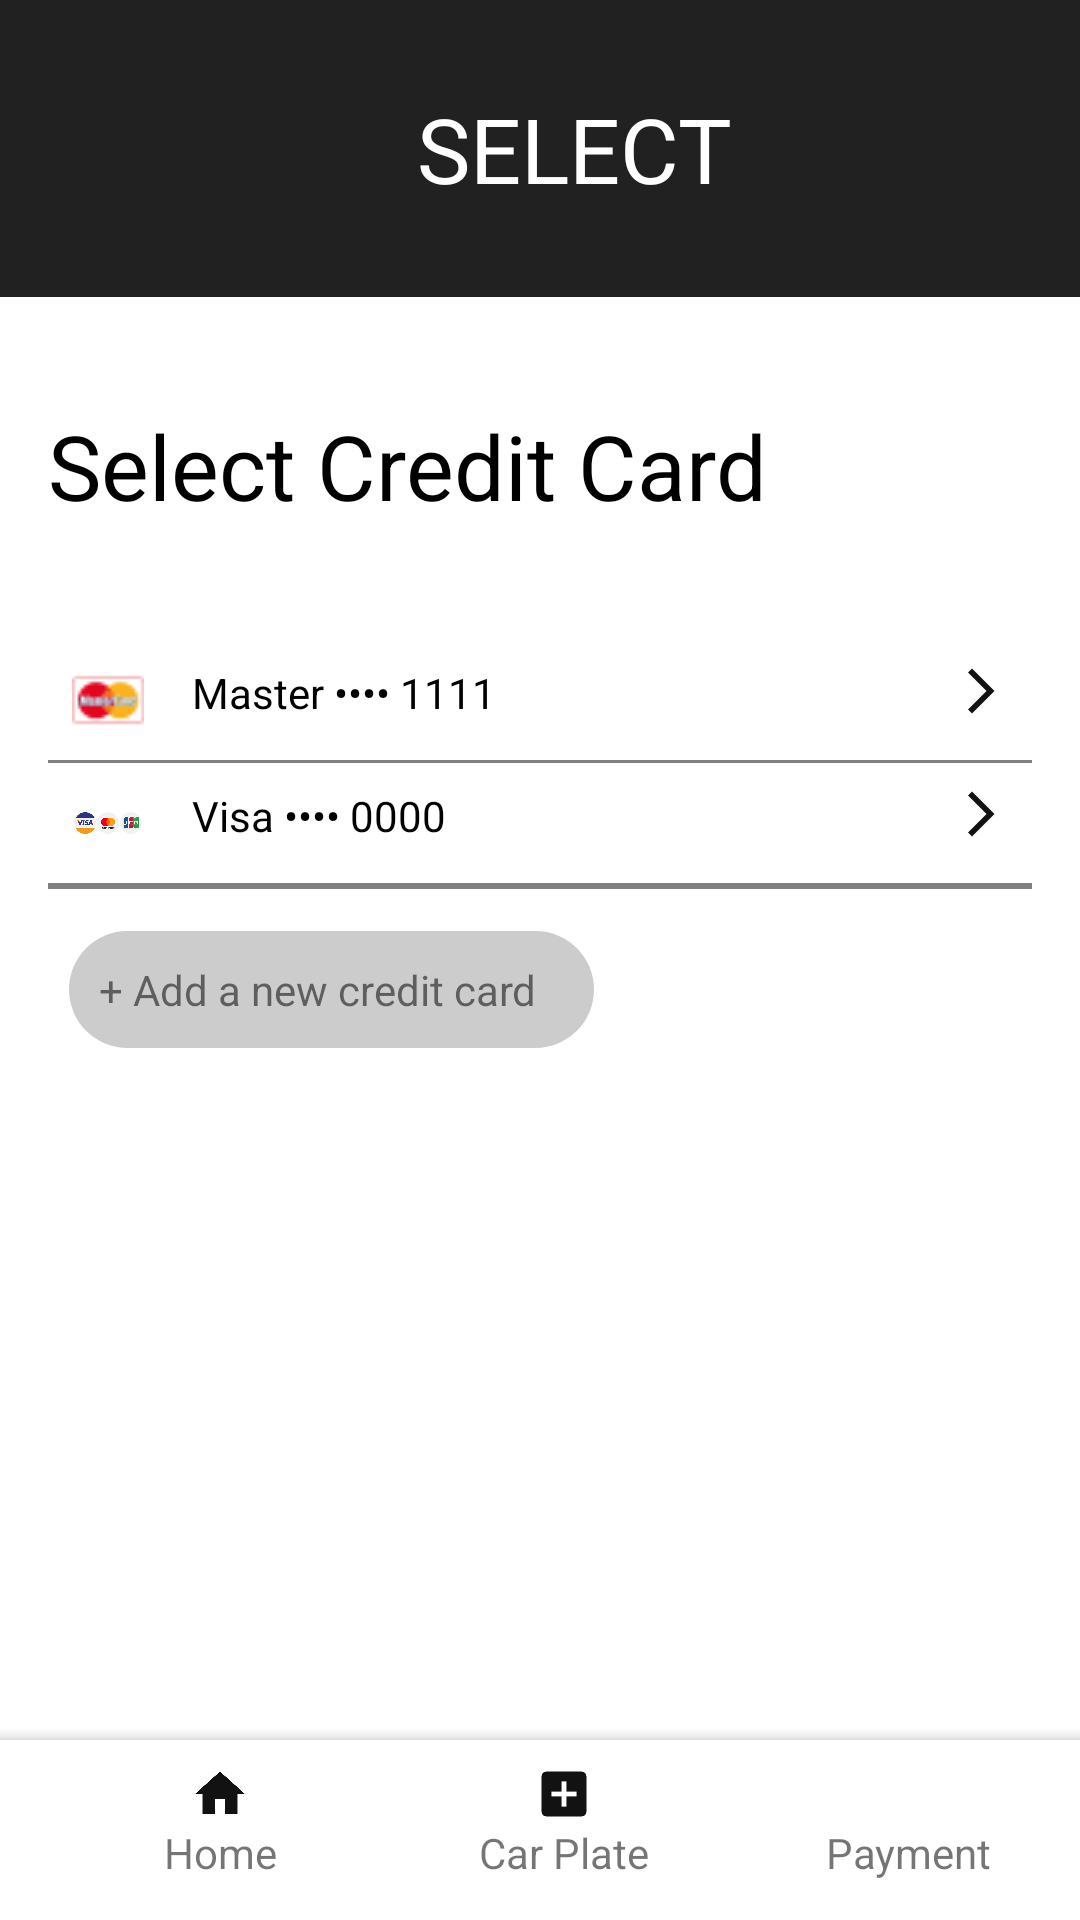

Point at icon controls on the screen. Image size 1080 x 1920, points as (x=x, y=y).
add box: (x=564, y=1794)
arrow forward: (x=981, y=691), (x=981, y=814)
